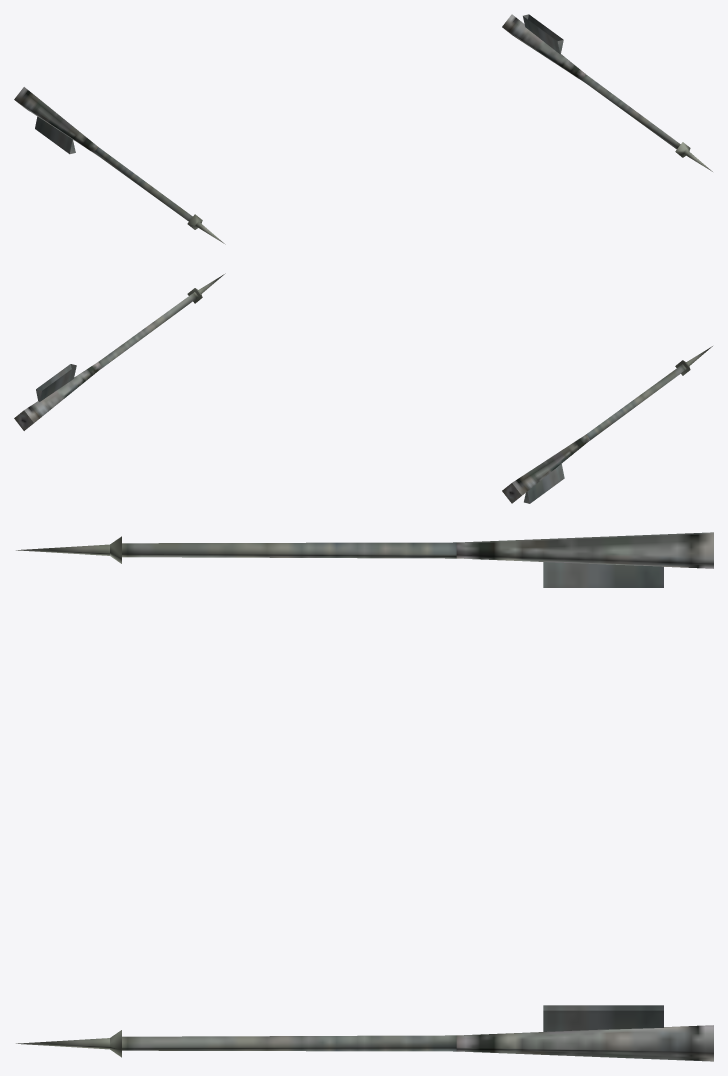
The model's file is xwing_weapon1_pos_s01_l2.fbx.
3 views of the same model, one above another, from view 1: azimuth 30°, elevation 25°; view 2: azimuth 150°, elevation 25°; view 3: azimuth 270°, elevation 25° (orthographic). The views are drawn at different scales.
Parts seen in each view (by area): view 1: mesh_node; view 2: mesh_node; view 3: mesh_node.
Part boxes in pixels (x1,y1,x2,y2): mesh_node: (14,14,712,244); mesh_node: (14,273,712,503); mesh_node: (16,532,713,1061).
Size of the model in its own units: 12.94 by 1.64 by 8.92.
1 material, 1 textured.
